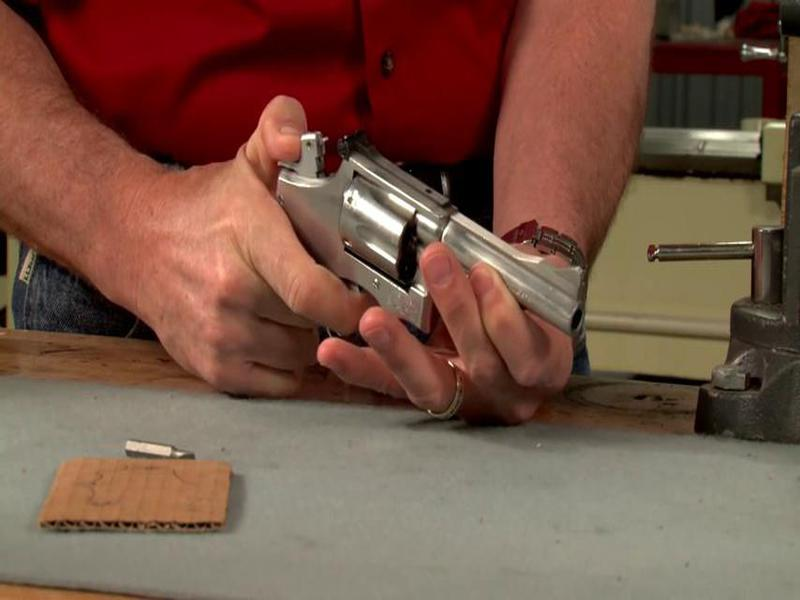Revolver: (238, 86, 598, 411)
